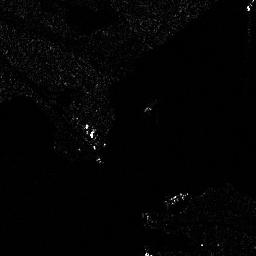ship: (162, 188, 191, 206)
